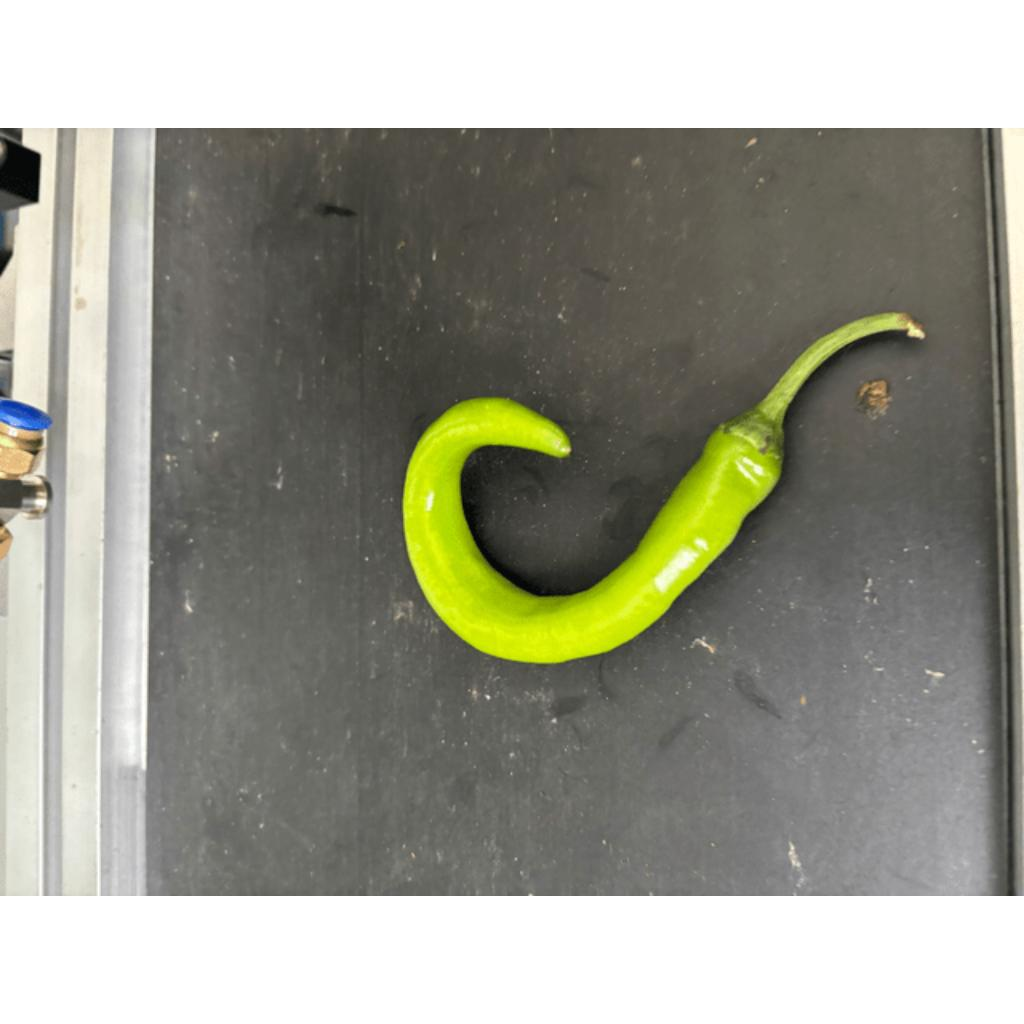chili: (396, 394, 788, 667)
